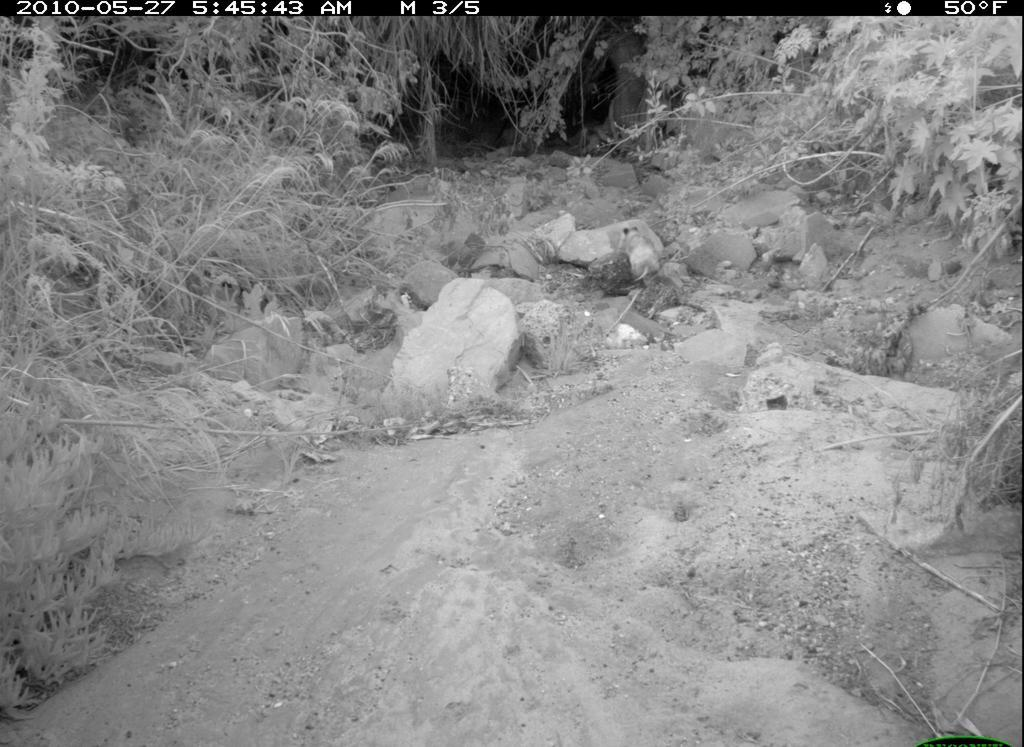opossum: (615, 222, 666, 294)
